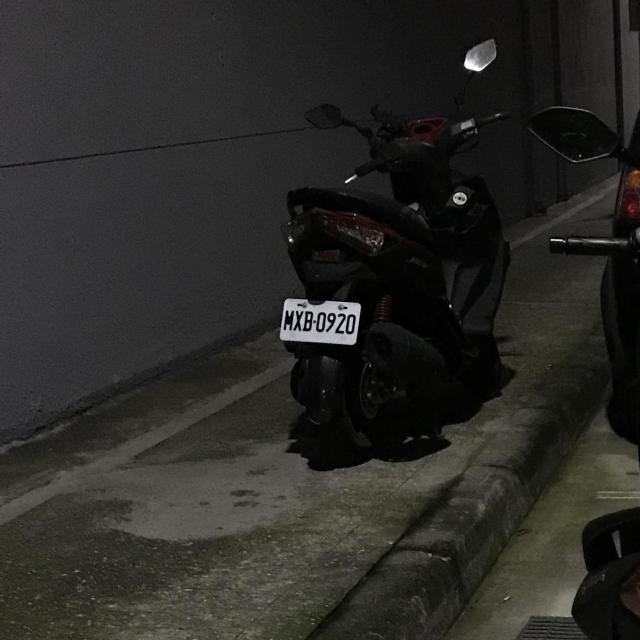W: (276, 293, 364, 348)
